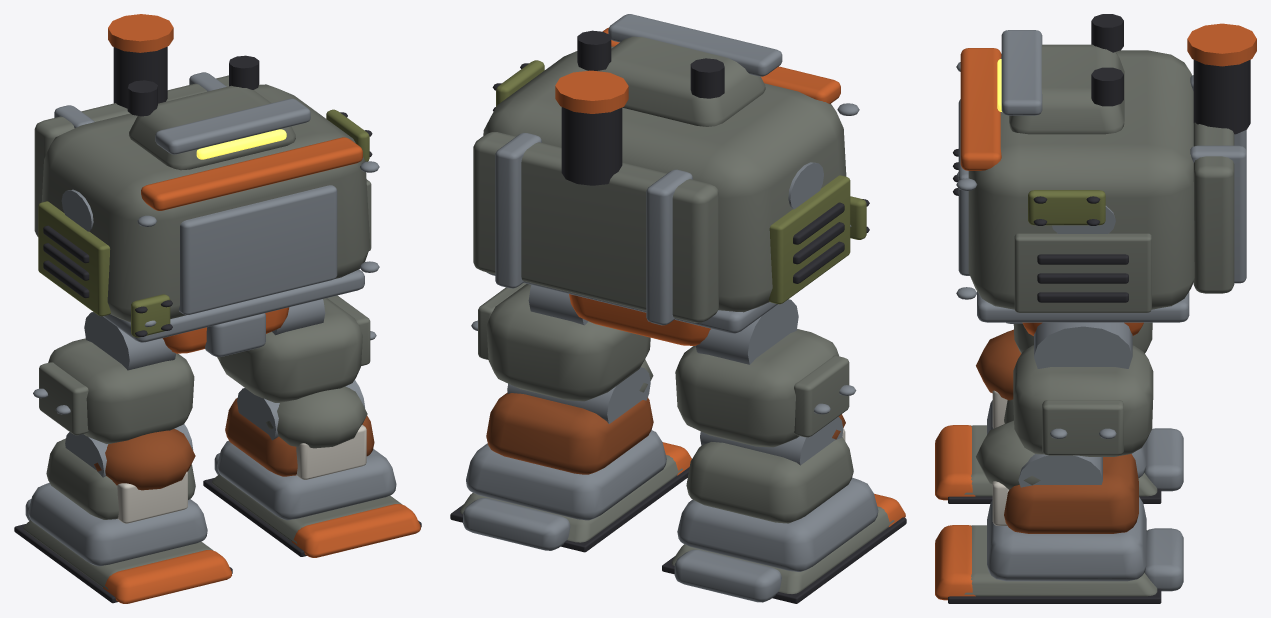
The model's file is ch_citadel.glb.
3 renders of one model, left to right at view 1: azimuth 30°, elevation 25°; view 2: azimuth 150°, elevation 25°; view 3: azimuth 270°, elevation 25°, orthographic. The views are drawn at different scales.
Visible parts, largest first — view 1: ch_citadel, limb_leg_l, limb_leg_r; view 2: ch_citadel, limb_leg_l, limb_leg_r; view 3: ch_citadel, limb_leg_r, limb_leg_l.
Part boxes in pixels (x1=…): ch_citadel: x1=34, y1=14, x2=379, y2=357; limb_leg_l: x1=14, y1=312, x2=232, y2=603; limb_leg_r: x1=203, y1=295, x2=421, y2=557; ch_citadel: x1=473, y1=14, x2=869, y2=345; limb_leg_l: x1=662, y1=299, x2=906, y2=603; limb_leg_r: x1=450, y1=283, x2=691, y2=552; ch_citadel: x1=953, y1=14, x2=1256, y2=335; limb_leg_r: x1=935, y1=322, x2=1183, y2=603; limb_leg_l: x1=935, y1=322, x2=1183, y2=503.
Size of the model in its own units: 0.5652 by 0.7551 by 0.4551.
